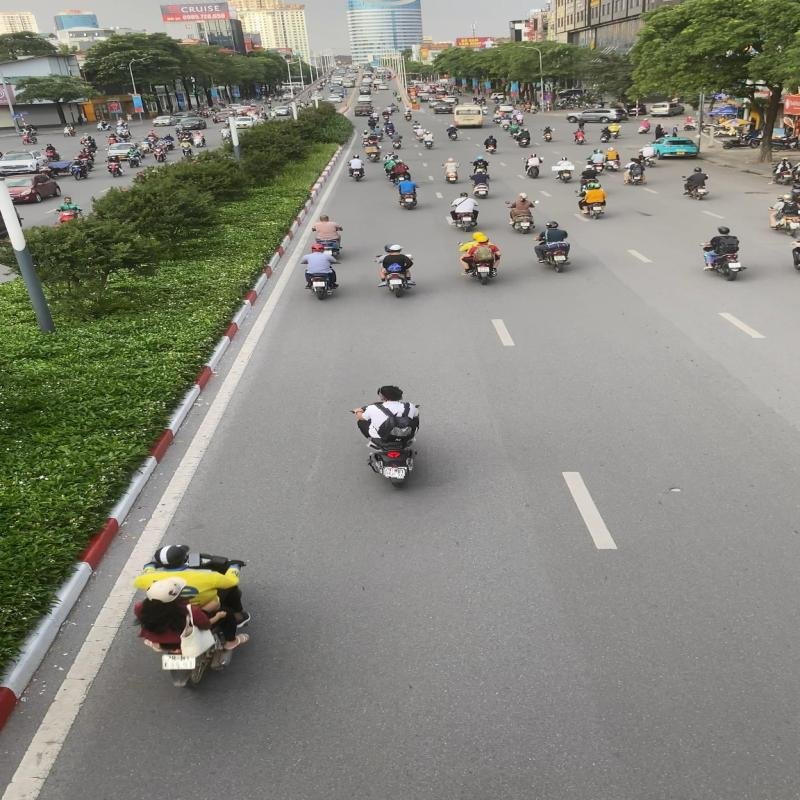licenseplate: (382, 466, 408, 479)
motorcyclist: (348, 384, 428, 490)
nohelmet: (378, 384, 404, 402)
